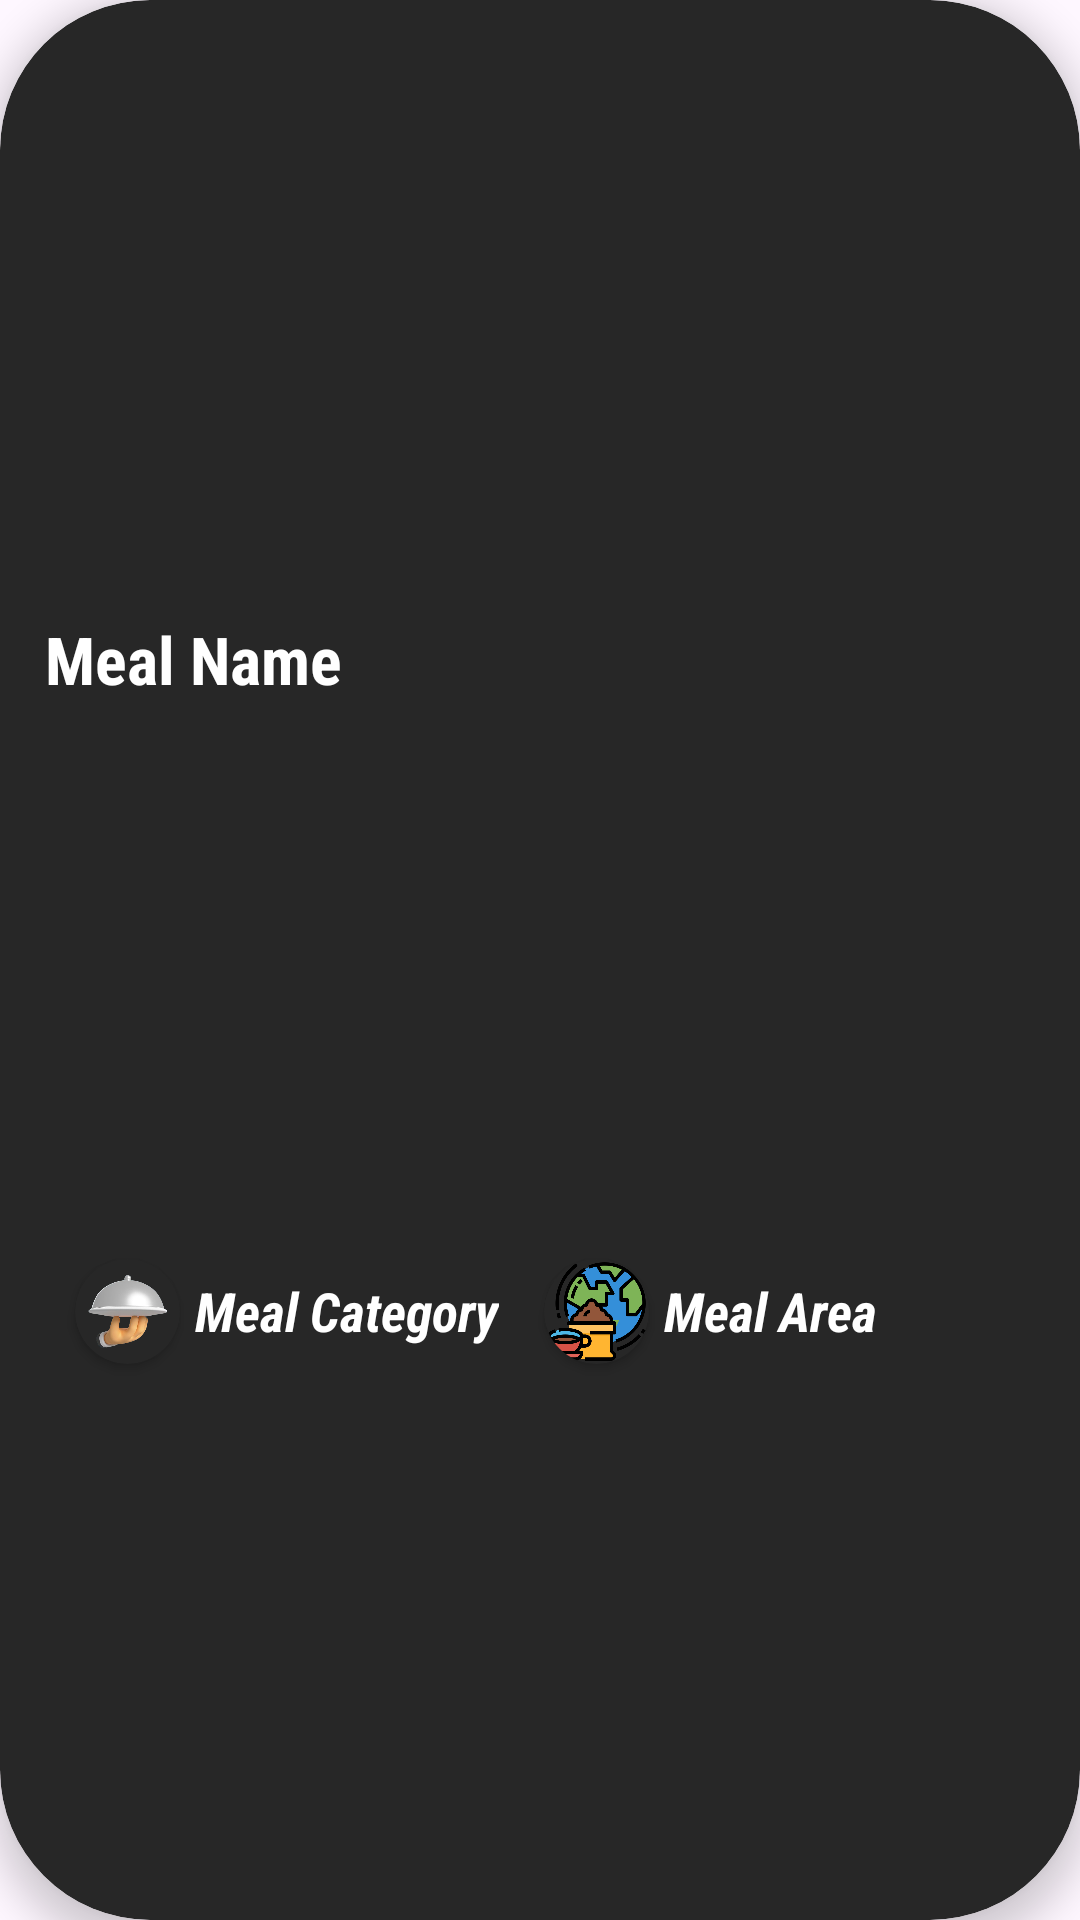

Named icons in this screenshot (1080x1920) and their centers, [x,y]:
food category: [127,1311]
food country: [597,1311]
